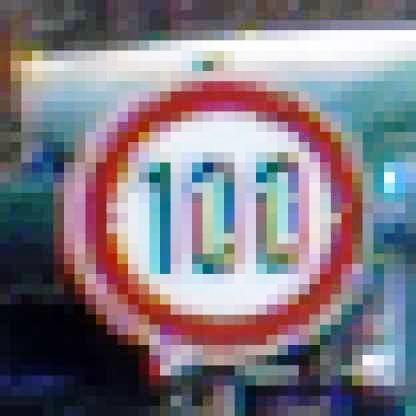Speed Limit -100-: (62, 70, 374, 366)
